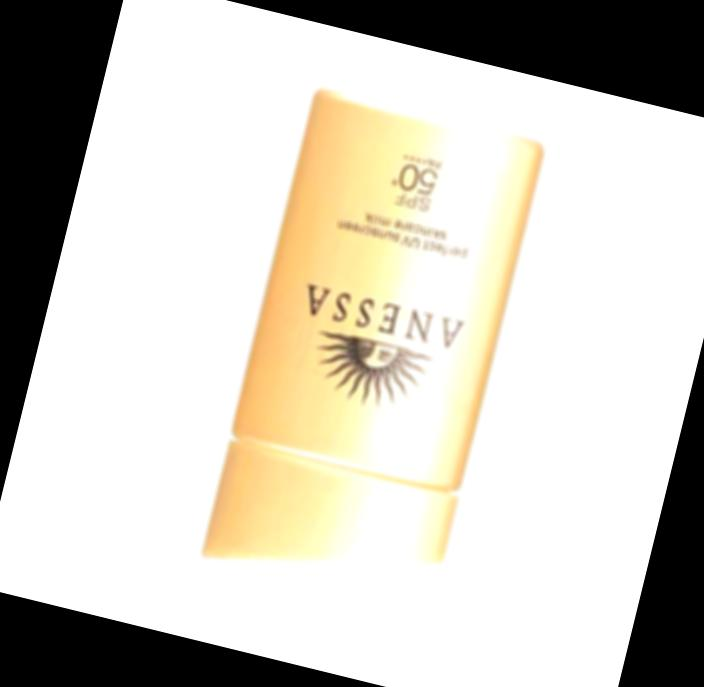cosmetic: (196, 91, 542, 618)
